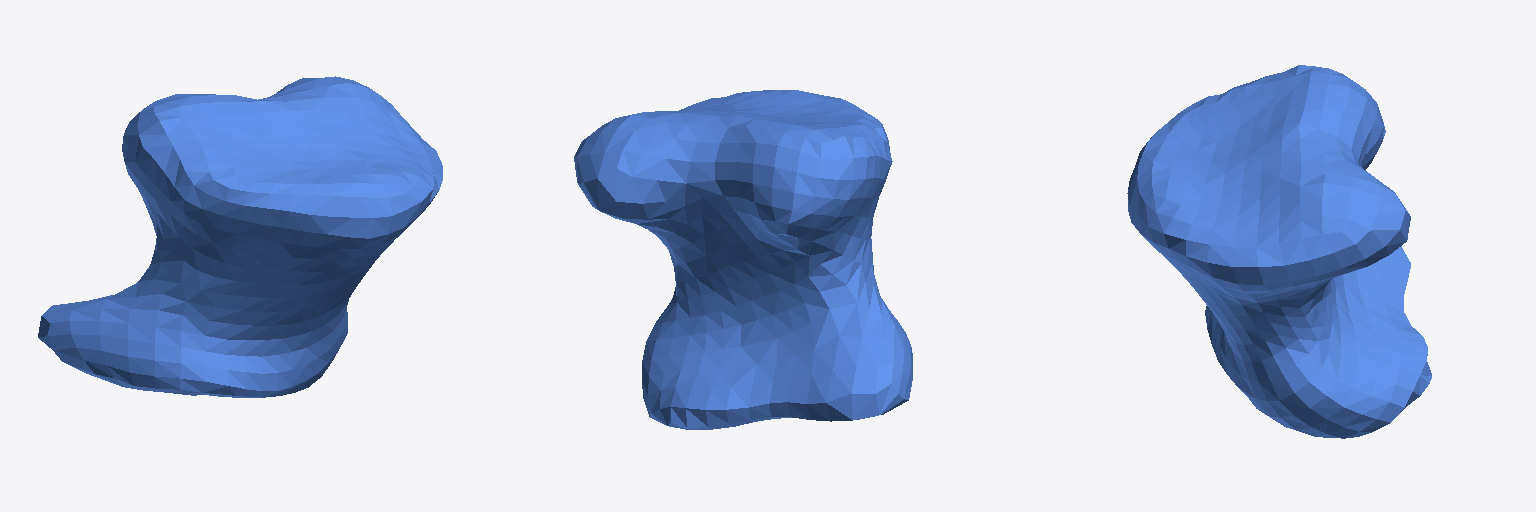
The model's file is MiddlePhalanx_1.obj.
3 views of the same model, side by side, from view 1: azimuth 30°, elevation 25°; view 2: azimuth 150°, elevation 25°; view 3: azimuth 270°, elevation 25° (orthographic).
Visible parts, largest first — view 1: Object_0MiddlePhalanx_1; view 2: Object_0MiddlePhalanx_1; view 3: Object_0MiddlePhalanx_1.
Part boxes in pixels (bbox=[...]): Object_0MiddlePhalanx_1: bbox=[38, 76, 442, 397]; Object_0MiddlePhalanx_1: bbox=[574, 90, 912, 429]; Object_0MiddlePhalanx_1: bbox=[1127, 65, 1431, 438].
Bounding box in the file's own units: 14.09 × 12.14 × 10.96.